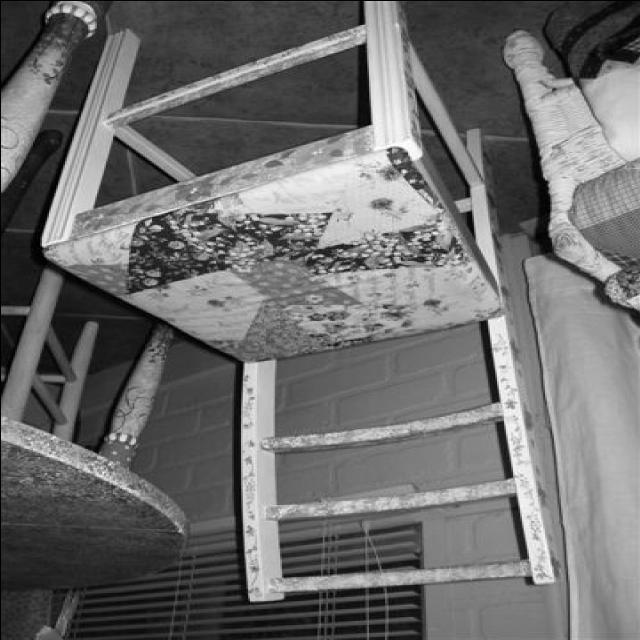chair: (41, 0, 554, 602)
